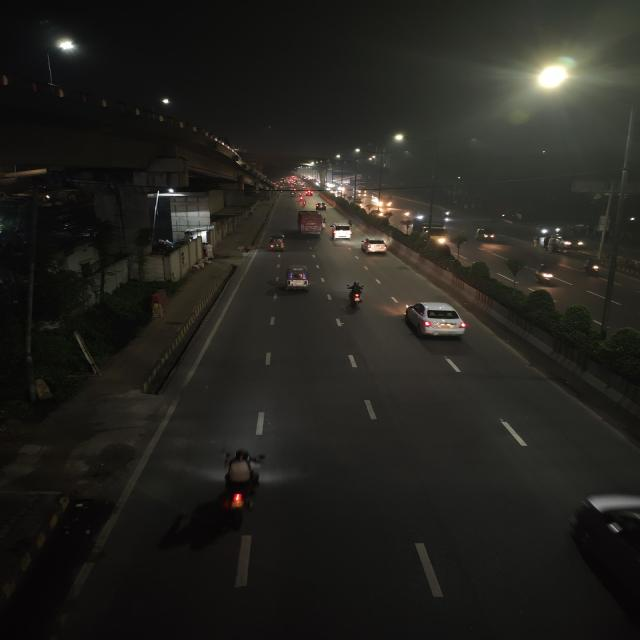bus: (296, 209, 325, 236)
car: (398, 298, 473, 344), (359, 237, 389, 256), (330, 222, 354, 242), (314, 201, 327, 211)
cng: (282, 265, 312, 293), (266, 233, 288, 252), (474, 227, 499, 242)
motorcycle: (210, 445, 273, 523), (341, 280, 370, 312), (533, 262, 559, 286), (581, 259, 605, 277), (441, 208, 453, 220), (298, 199, 307, 208)
truck: (420, 219, 451, 247)
